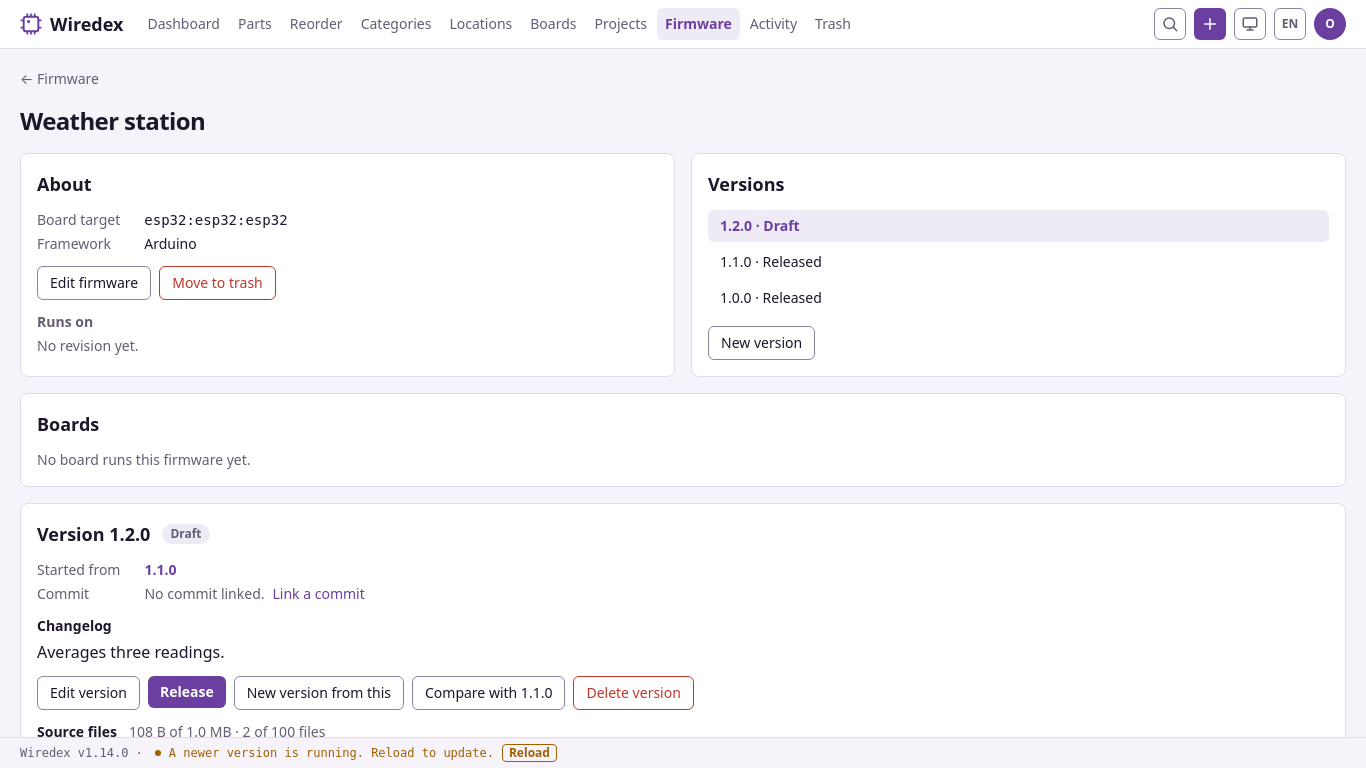
Test case: NewVersionDialog › offers the suggested number and the highest version, and opens the new draft
The image size is (1366, 768).
Click the button "New version" at (762, 343), box 708,326 -> 815,360
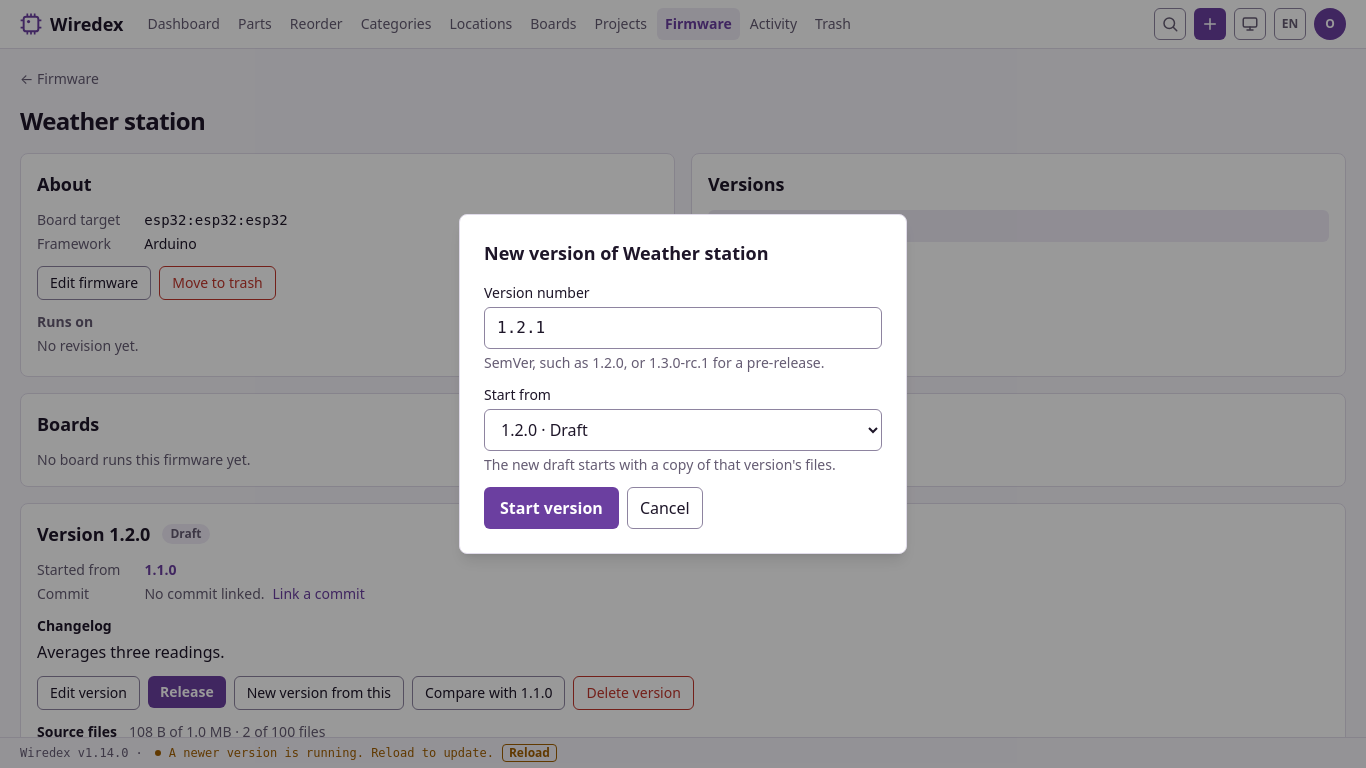
Now the field labelled "Version number" holds "1.2.1", box 484,307 -> 882,349
Now the dropdown labelled "Start from" shows "1.2.0 · Draft", box 484,409 -> 882,451
Click the button "Start version" at (551, 508), box 484,487 -> 619,529
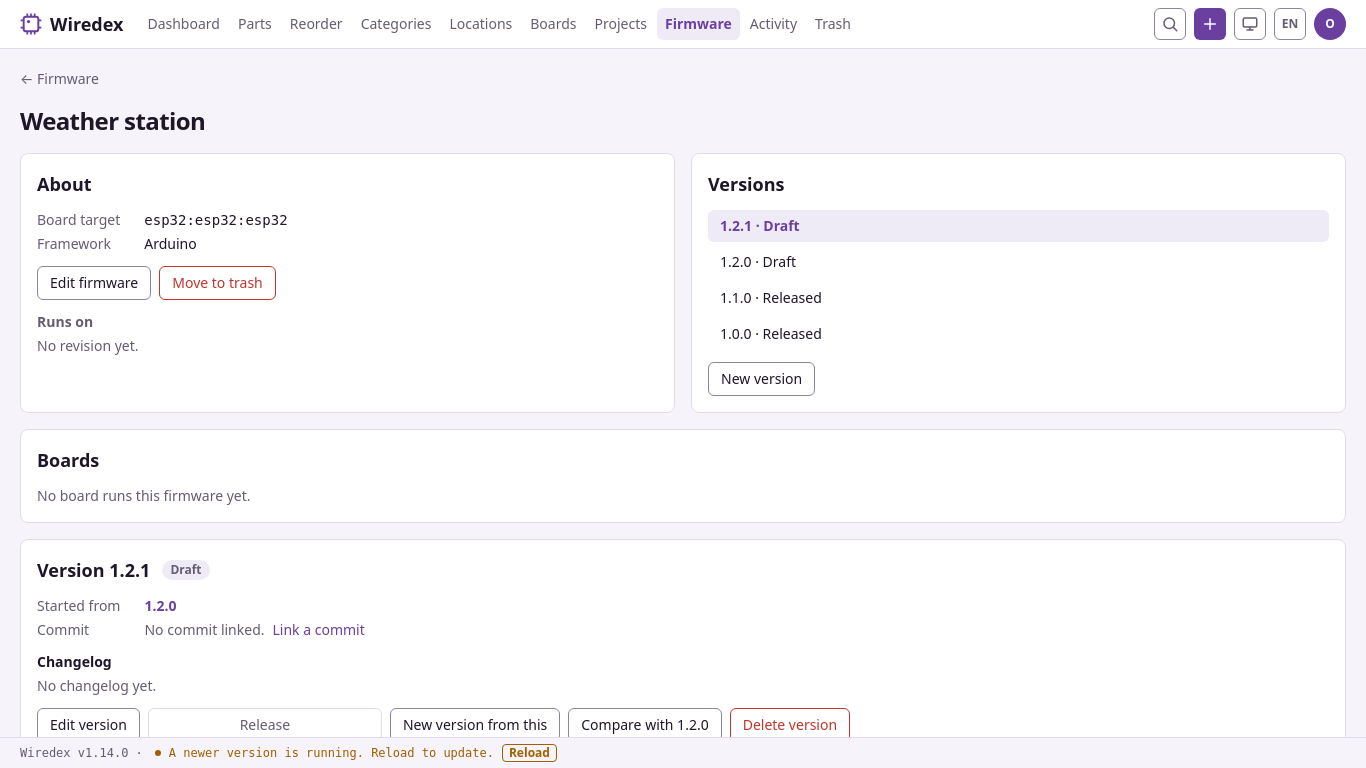
Now the link "1.2.0" is shown, box 144,596 -> 176,615
Now the dialog is gone
